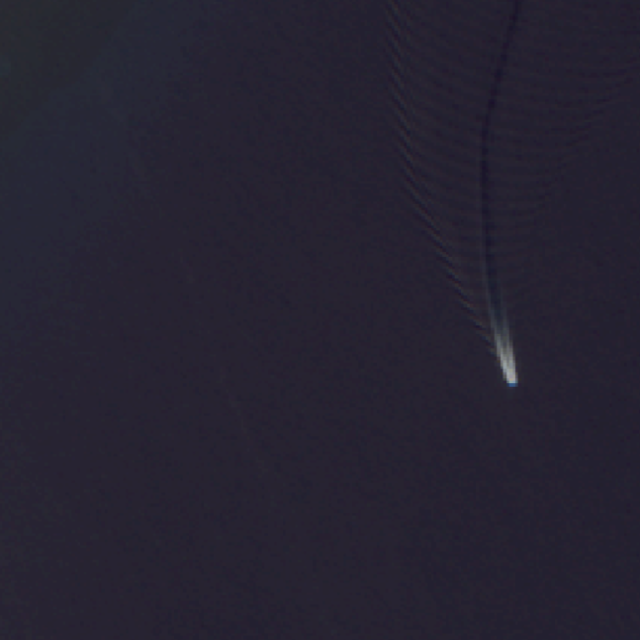wake: (394, 174, 598, 437)
